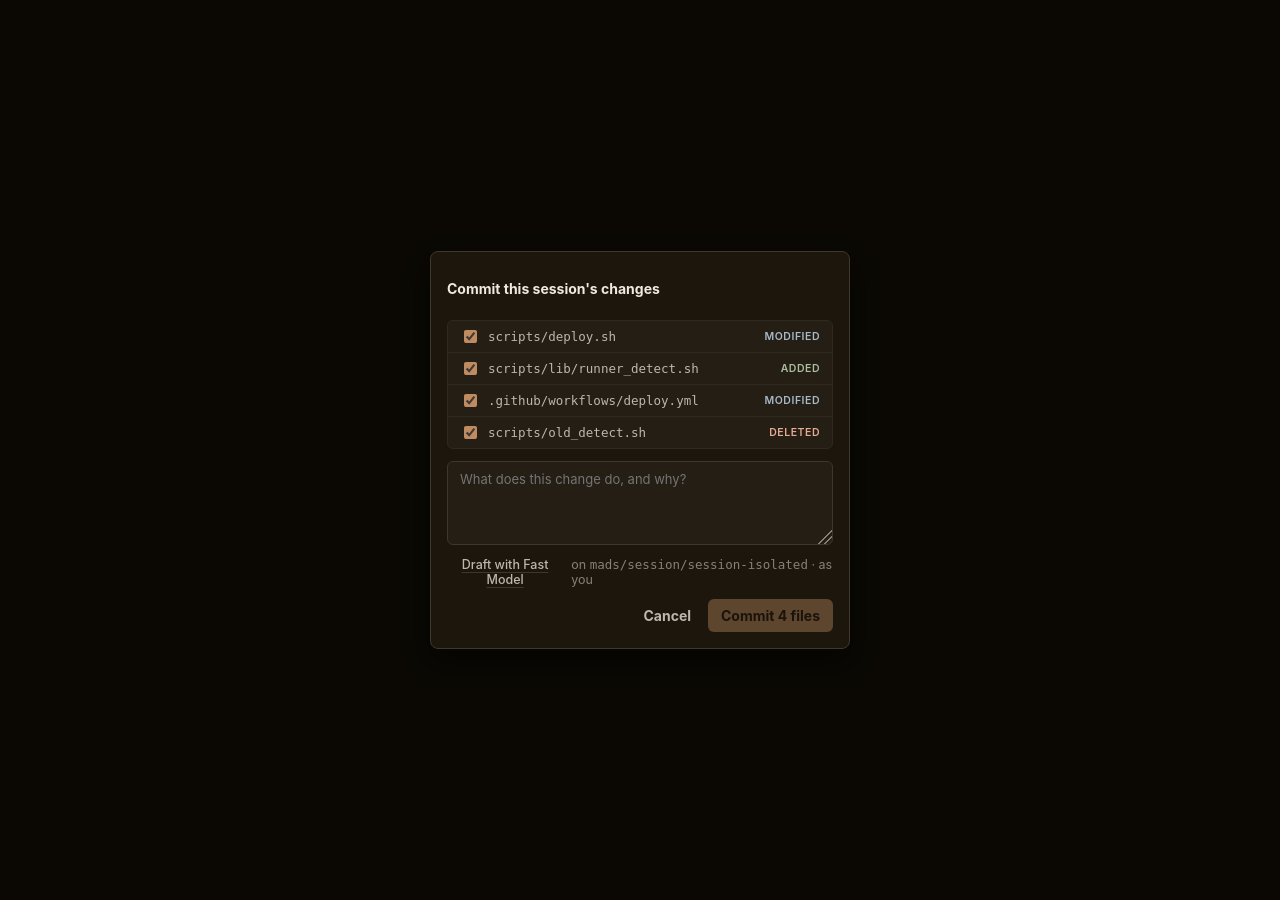
Test: CommitDialog (D5) › shows git's output verbatim on git_failed and keeps the selection
Click the checkbox named "Include scripts/old_detect.sh". click: (470, 433)
box: left=464, top=426, right=477, bottom=439
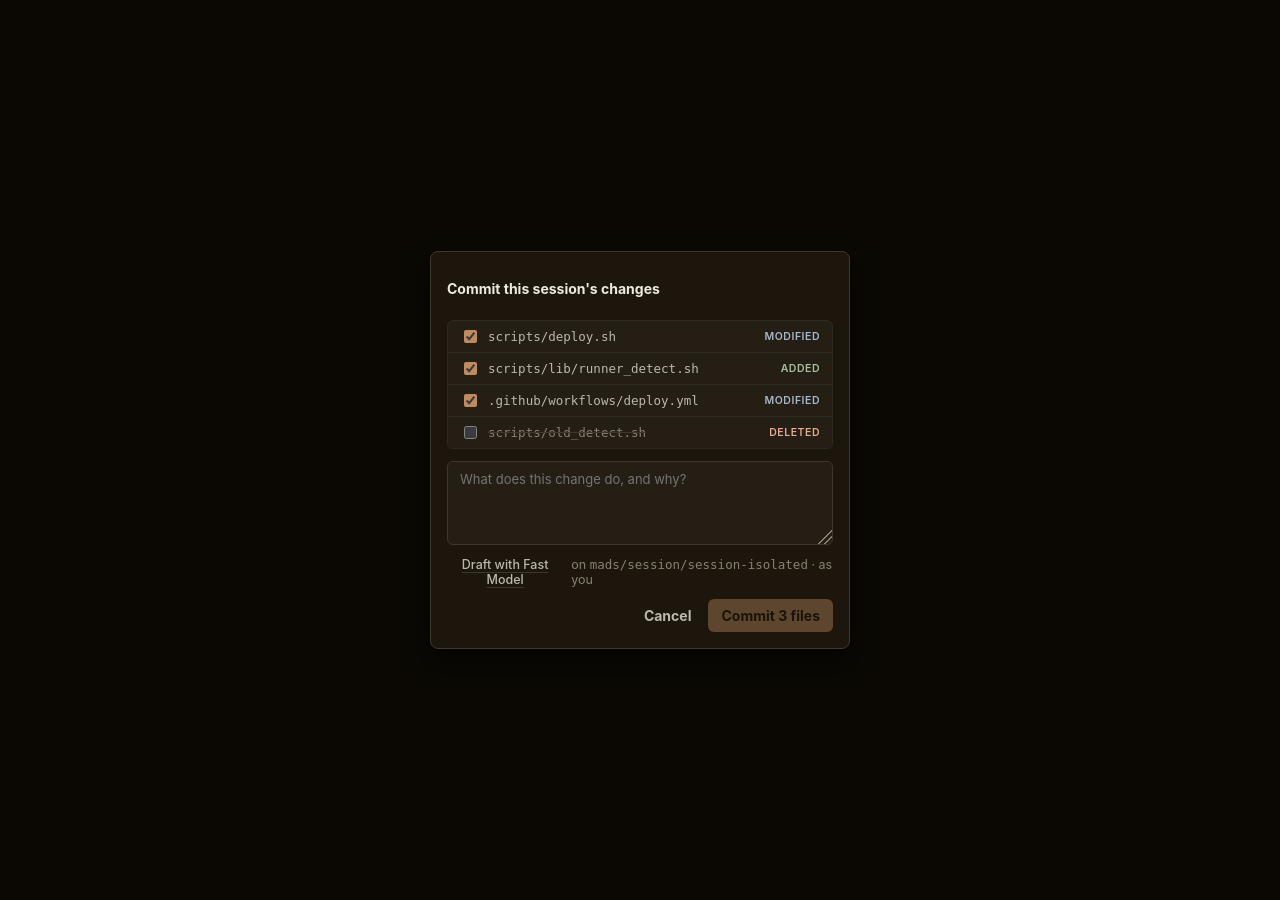
Type "Fix deploy" into the text box named "Commit message". click: (640, 503)
box: left=447, top=461, right=833, bottom=545
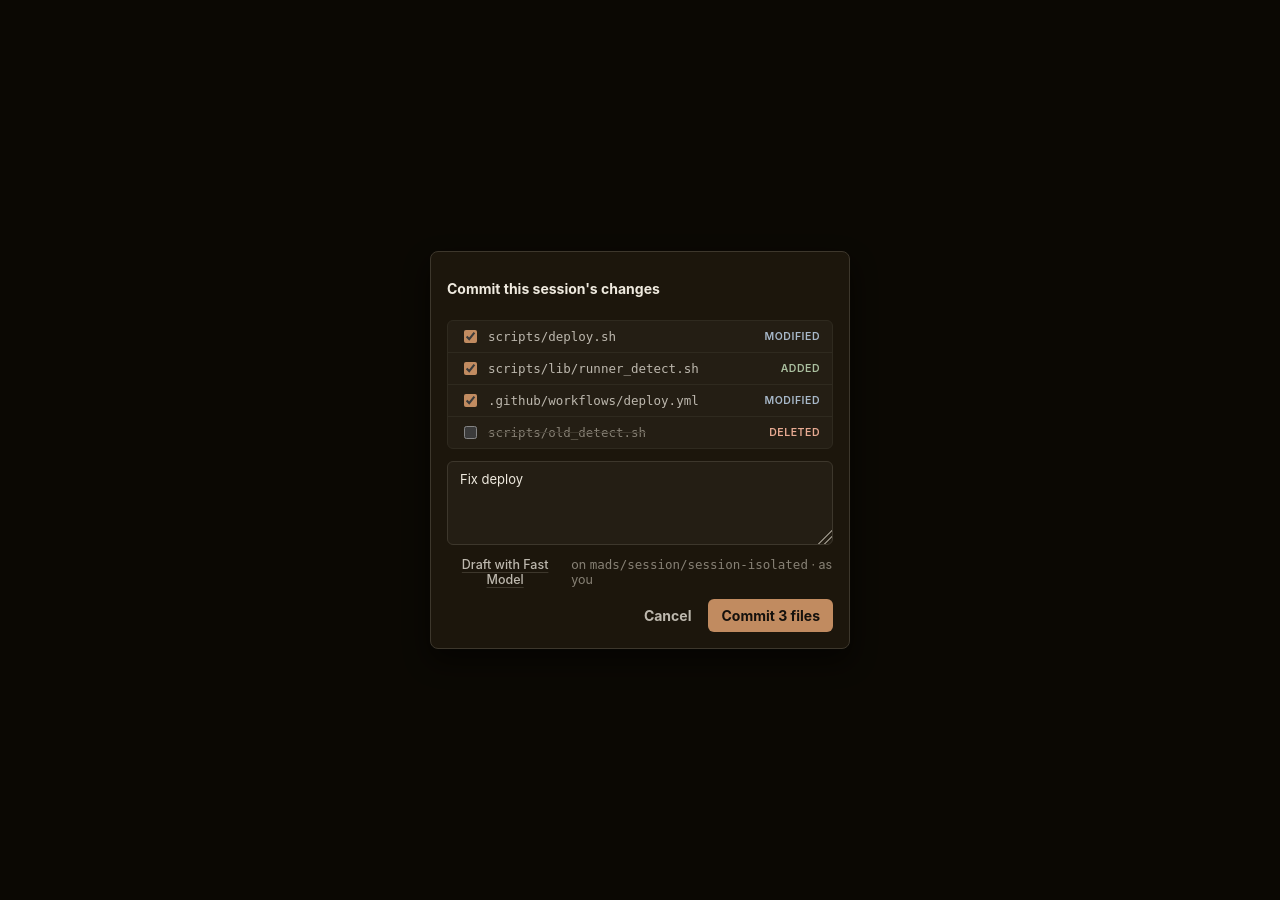
Click the button "Commit 3 files". click: (771, 616)
box: left=708, top=599, right=833, bottom=632
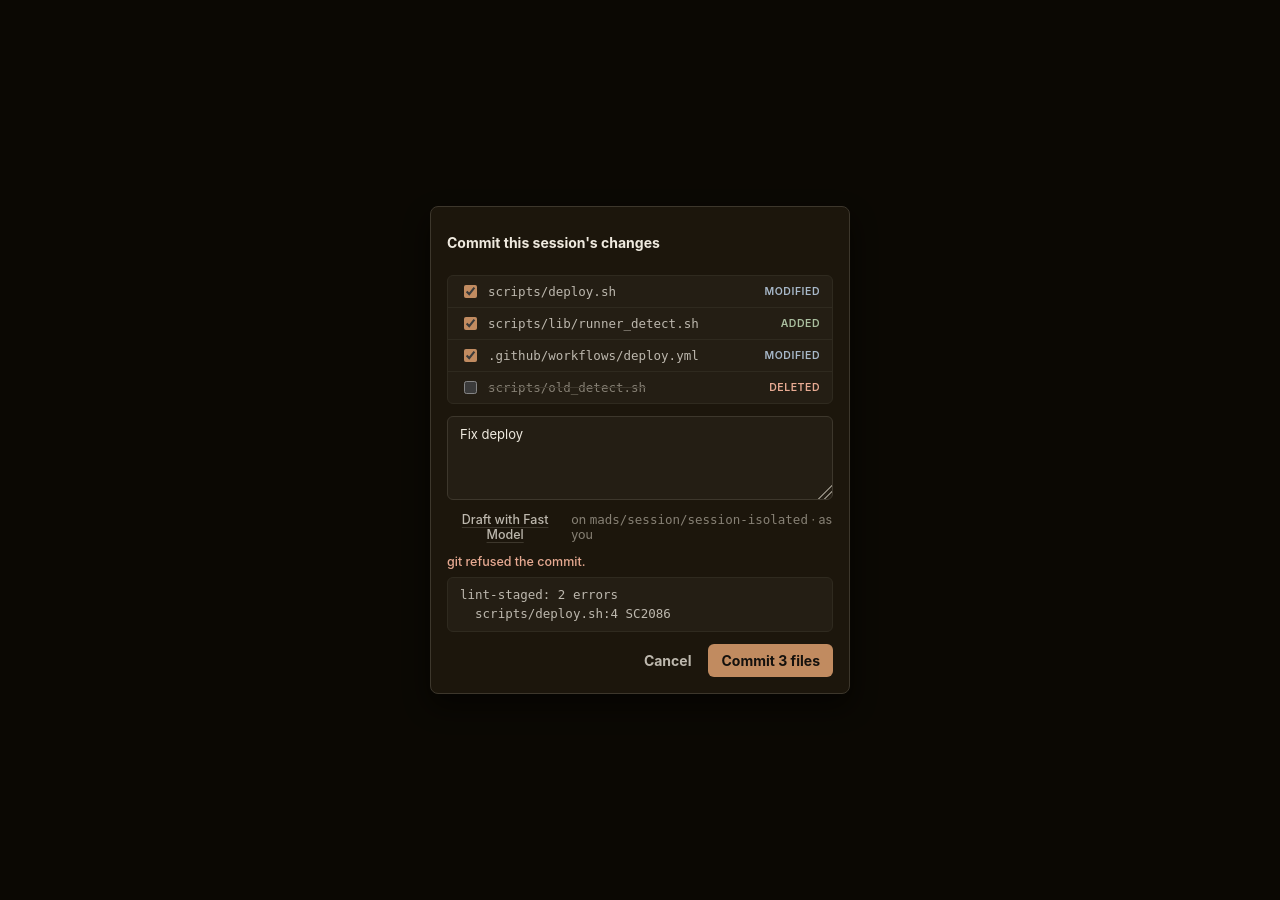
Check: the checkbox named "Include scripts/old_detect.sh" is not checked, box left=464, top=381, right=477, bottom=394
Check: the text "git refused the commit." is shown, box left=447, top=554, right=586, bottom=569
